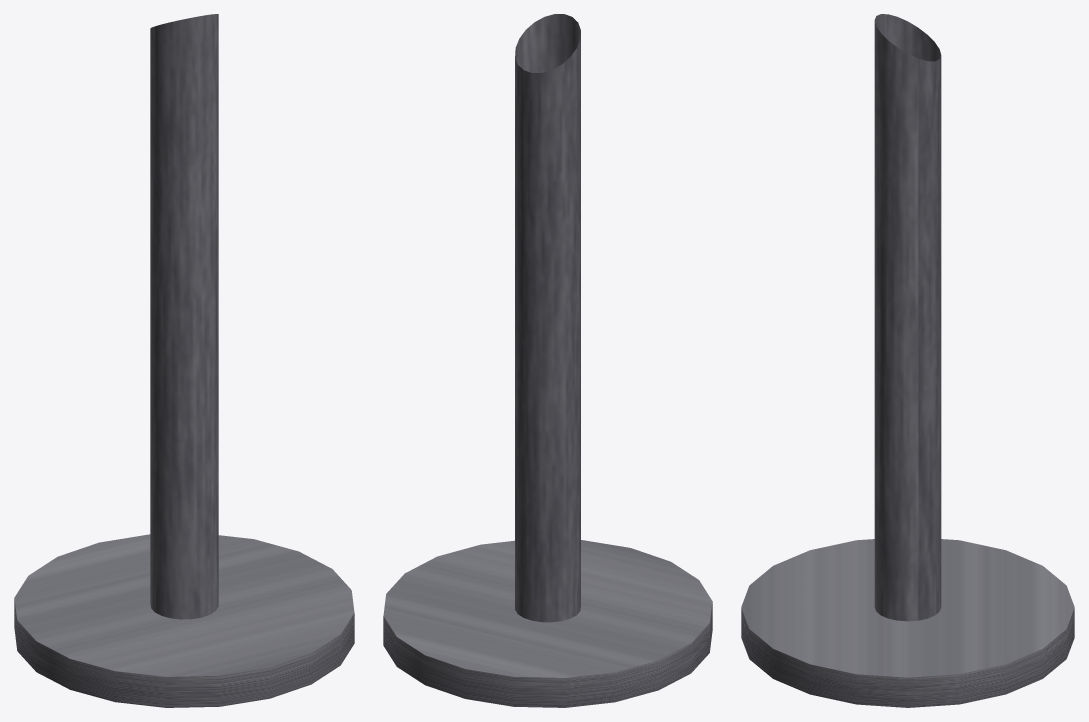
Rendered from atril.obj.
3 views of the same model, side by side, from view 1: azimuth 30°, elevation 25°; view 2: azimuth 150°, elevation 25°; view 3: azimuth 270°, elevation 25° (orthographic). The views are drawn at different scales.
Parts seen in each view (by area): view 1: polySurface3; view 2: polySurface3; view 3: polySurface3.
Part boxes in pixels (box(x1,y1,x2,y2)): polySurface3: box(14, 14, 354, 707); polySurface3: box(383, 14, 712, 707); polySurface3: box(741, 14, 1074, 707).
Size of the model in its own units: 1 by 2.04 by 1.
